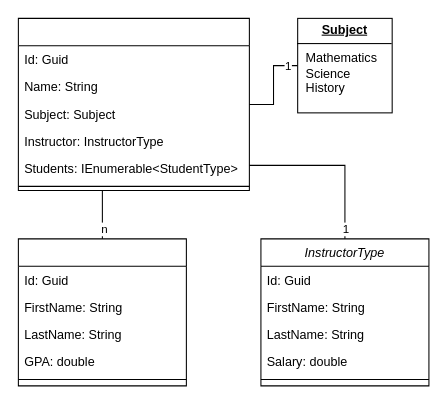
Image size: 447x404. Some labels were removed from this diagram. Here are the shapes that lost their labels. From the top down, the box of each, then its label:
(17, 17, 249, 191): CourseType
(17, 238, 186, 386): StudentType
